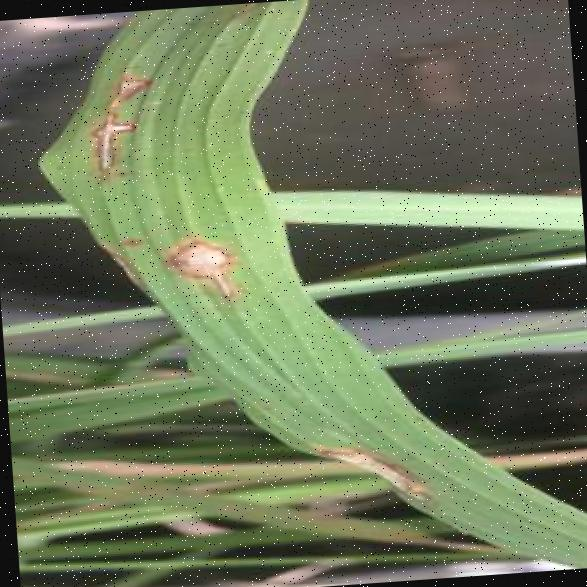Leaf_smut: (288, 425, 439, 533), (144, 219, 270, 321), (66, 89, 140, 176), (81, 223, 157, 306), (66, 56, 153, 110)
